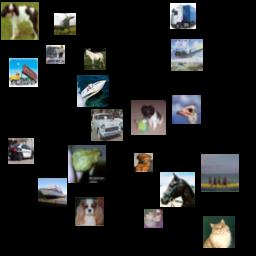airplane: (171, 39, 203, 71), (54, 13, 76, 35)
automobile: (91, 109, 123, 141), (8, 138, 34, 164)
bird: (172, 95, 201, 124)
cat: (203, 216, 235, 248)
dog: (1, 2, 39, 40), (131, 100, 166, 135), (75, 197, 104, 226), (144, 209, 163, 228), (134, 153, 153, 172)
frog: (68, 145, 106, 183)
ship: (201, 154, 239, 192), (77, 75, 109, 107), (38, 178, 67, 207)
truck: (9, 58, 38, 87), (170, 3, 196, 29)
